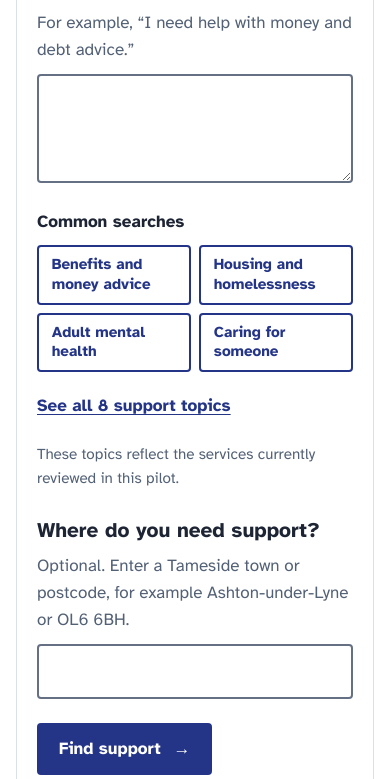
it: SearchExperience › lets narrow-screen visitors reveal the full topic list
The image size is (390, 779).
(page scrolled)
Click the button "See all 8 support topics" at x=134, y=406, box [37,382,231,430]
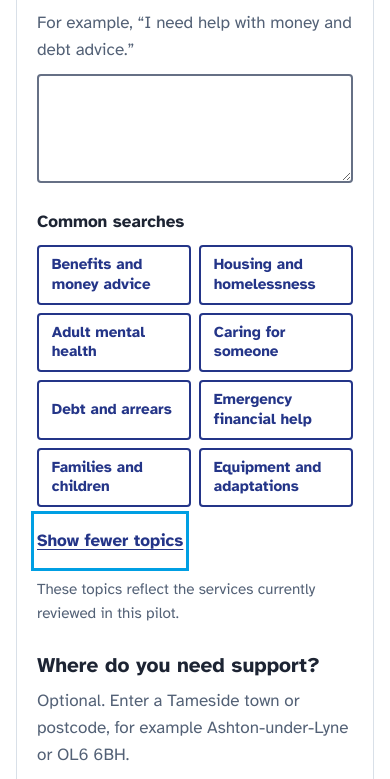
Check: the button "Show fewer topics" is expanded, box [37,517,183,565]
